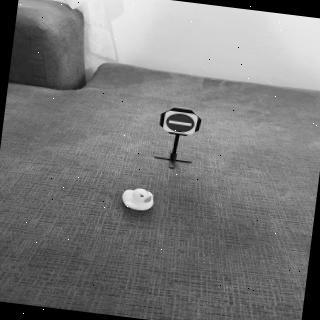duck_regular: (121, 185, 158, 215)
sign_noentry: (162, 110, 201, 138)
